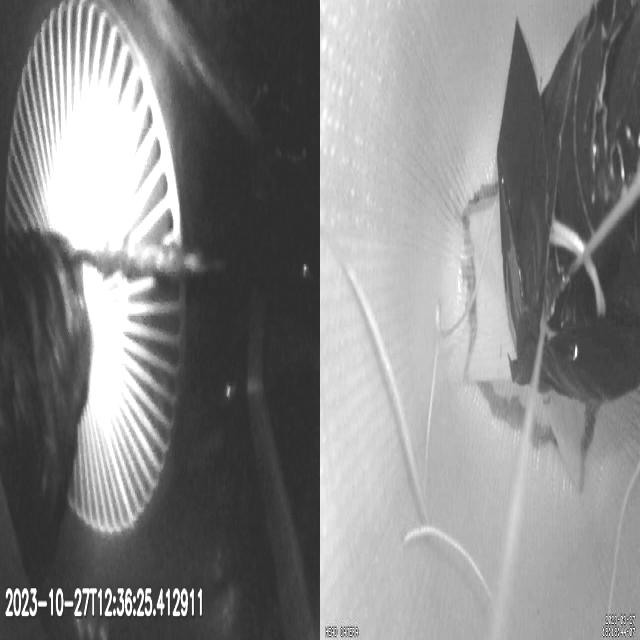red-circle: (460, 182, 597, 493)
